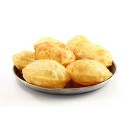poori: (70, 34, 112, 64), (24, 60, 69, 86), (33, 38, 75, 64), (69, 59, 111, 82), (12, 50, 39, 69)
